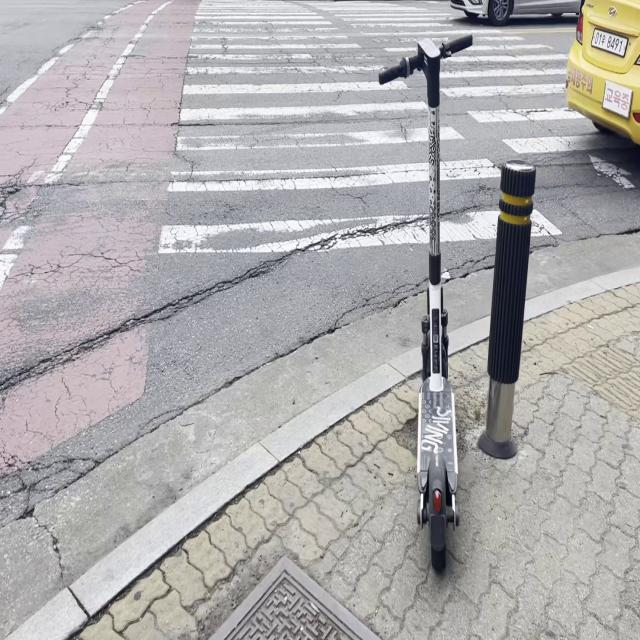crosswalk: (184, 0, 330, 297)
kickboard_no: (414, 358, 469, 568)
tactile_paving: (544, 314, 640, 416)
